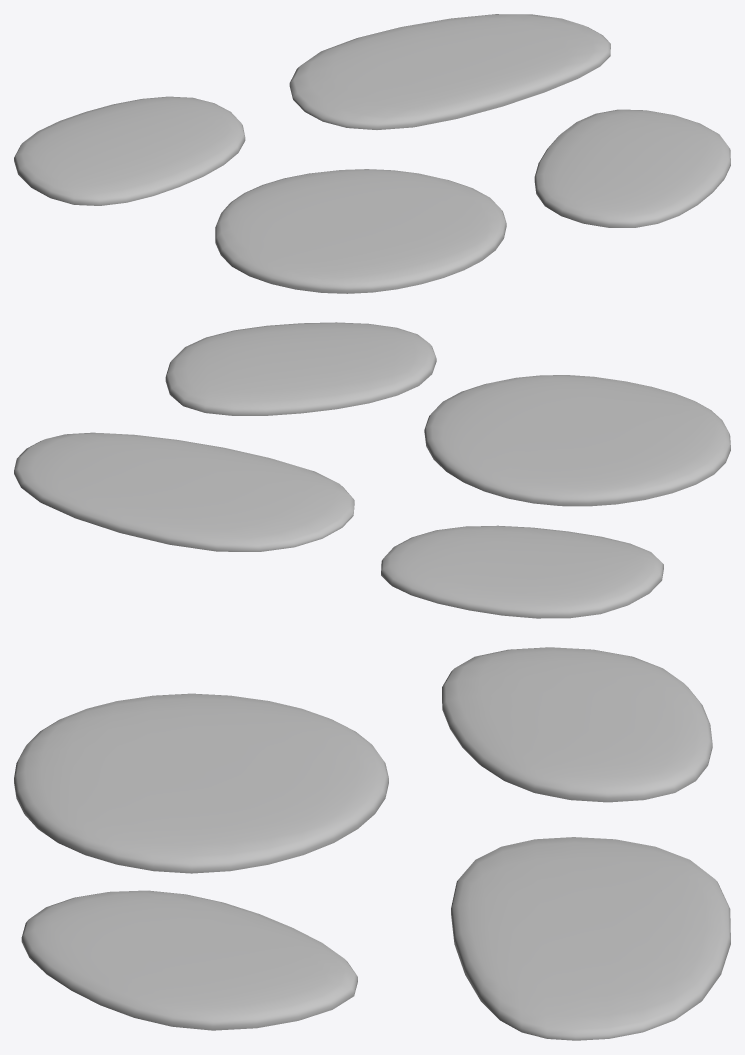
File: Town_10_Path_1.glb
3 renders of one model, top to bottom at view 1: azimuth 30°, elevation 25°; view 2: azimuth 150°, elevation 25°; view 3: azimuth 270°, elevation 25°, orthographic. The views are drawn at different scales.
Parts seen in each view (by area): view 1: Town_10_Path_1; view 2: Town_10_Path_1; view 3: Town_10_Path_1.
Part boxes in pixels (x1,y1,x2,y2): Town_10_Path_1: (14, 14, 730, 293); Town_10_Path_1: (14, 322, 730, 618); Town_10_Path_1: (14, 647, 730, 1040).
Size of the model in its own units: 1.89 by 0.039 by 1.48.
1 material, 1 textured.
